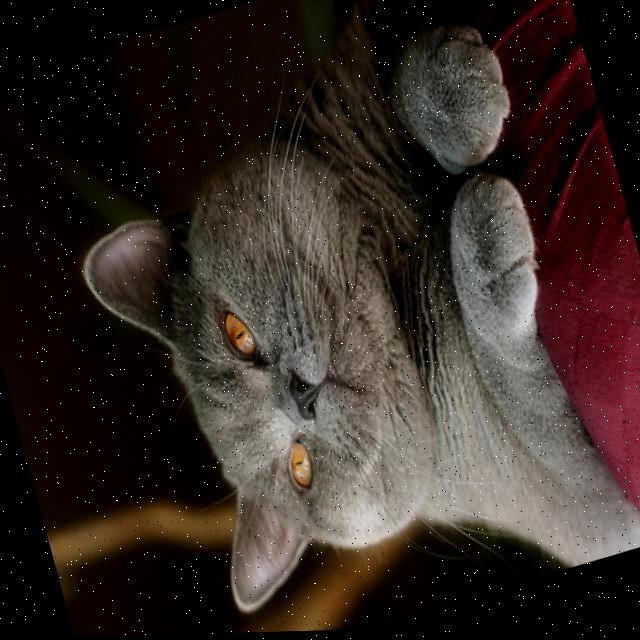British Shorthair: (25, 0, 640, 639)
